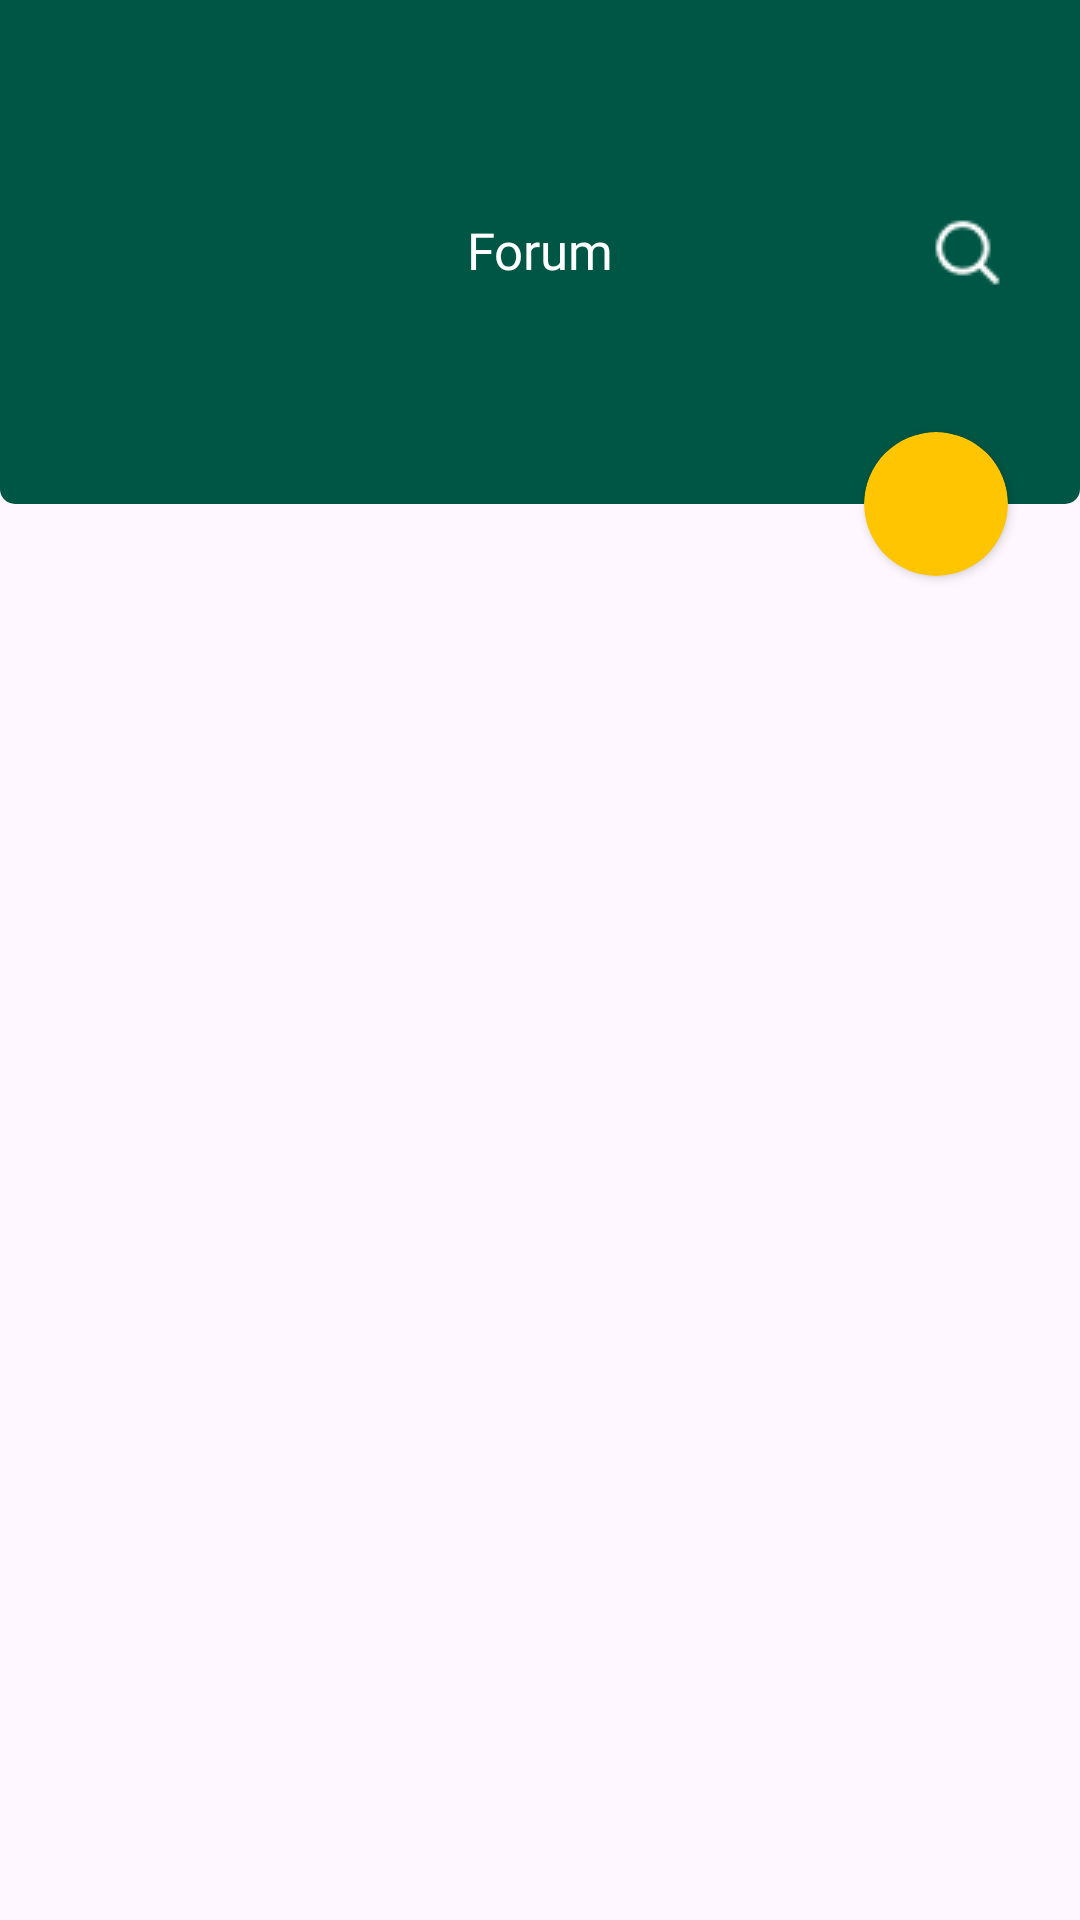

Icons on this 1080*1920 Android screen, each with its box as (x1, y1, x2, y2):
seacrh forum: (935, 220, 1000, 285)
